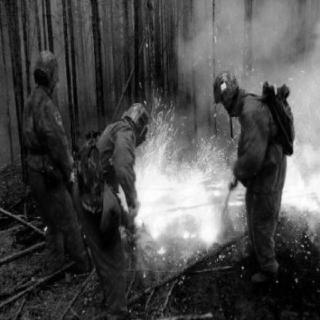Fire: (126, 97, 238, 255), (281, 76, 318, 212)
Smoke: (288, 62, 314, 105), (258, 12, 285, 48)
other: (211, 62, 293, 278)
